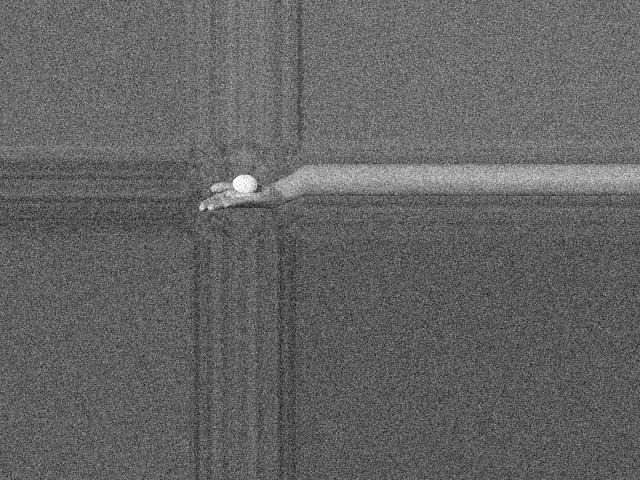egg: (233, 174, 257, 193)
